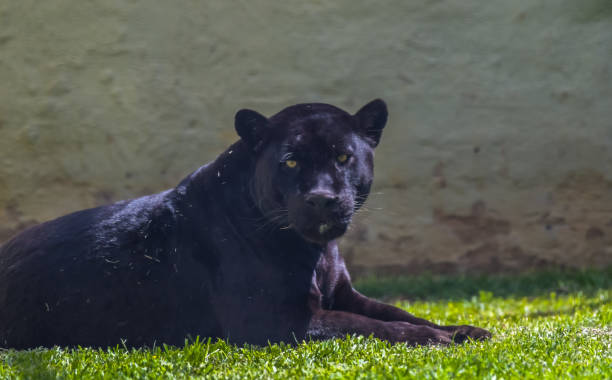panther: (224, 90, 403, 261)
